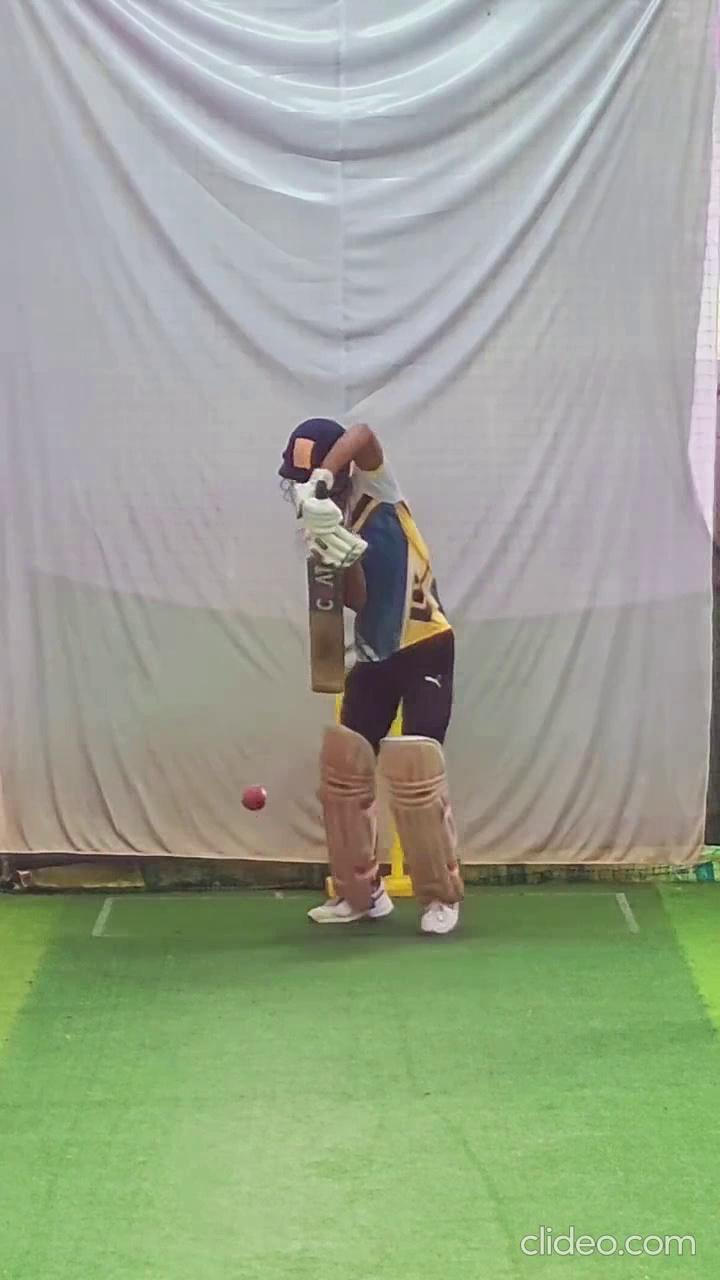bat: (308, 557, 346, 696)
